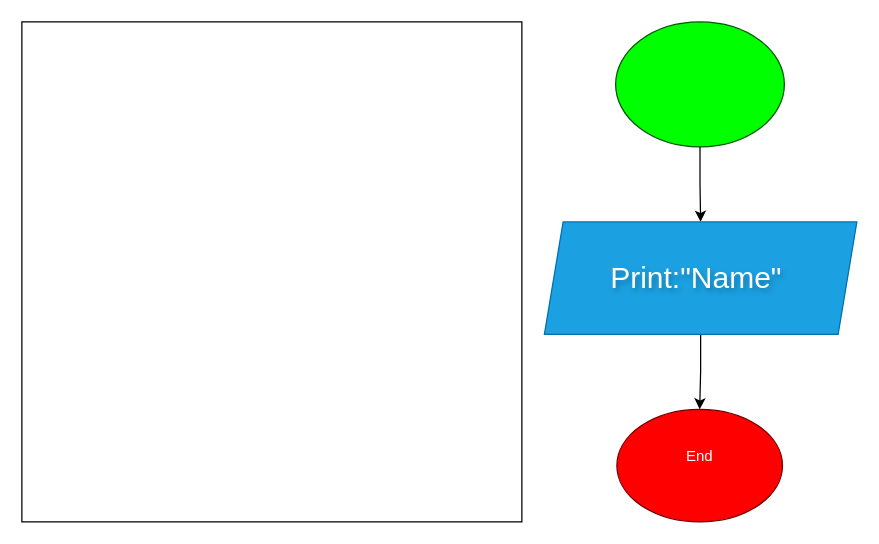
The diagram is 879 pixels wide and 544 high, and some of its shapes have lost their labels. The centre of each missing label's shape, as x and y in pixels:
"#1 This flowchart for a program that prints a name on the screen." goes at (x=271, y=271).
"Start" goes at (x=699, y=84).
